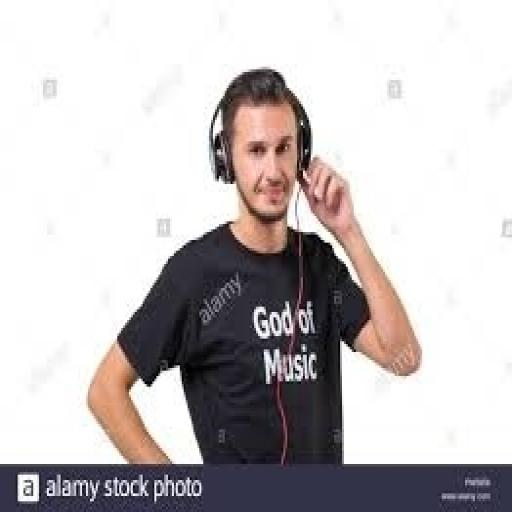listening_to_music: (84, 64, 426, 467)
